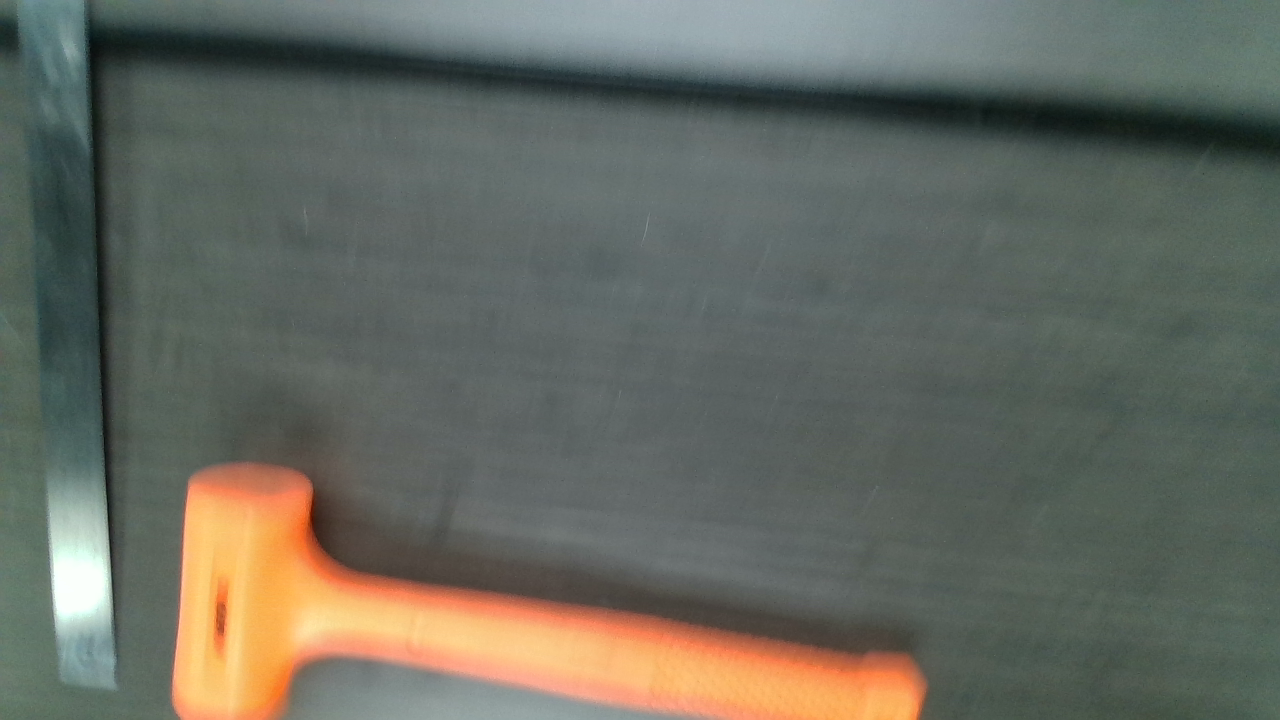Orange Hammer: (173, 462, 926, 718)
